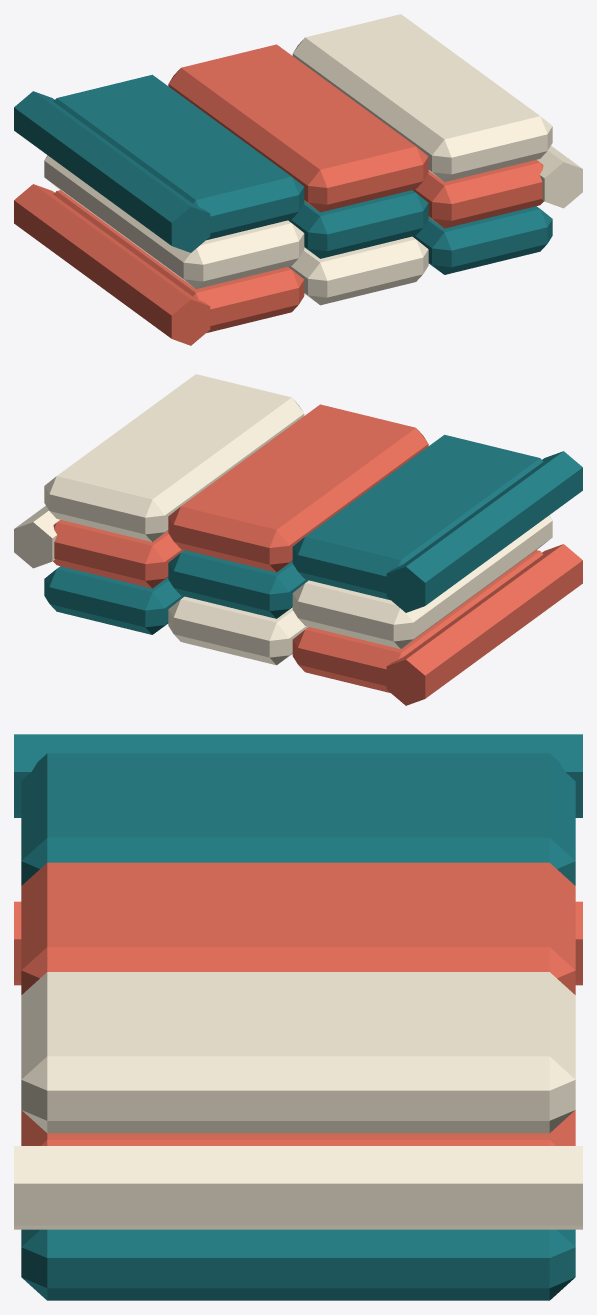
The model's file is folded_blanket.glb.
3 views of the same model, one above another, from view 1: azimuth 30°, elevation 25°; view 2: azimuth 150°, elevation 25°; view 3: azimuth 270°, elevation 25° (orthographic). The views are drawn at different scales.
Visible parts, largest first — view 1: folded_blanket; view 2: folded_blanket; view 3: folded_blanket.
Part boxes in pixels (x1,y1,x2,y2): folded_blanket: (14,14,582,345); folded_blanket: (14,374,582,705); folded_blanket: (14,734,582,1300).
Size of the model in its own units: 0.4633 by 0.15 by 0.308.
